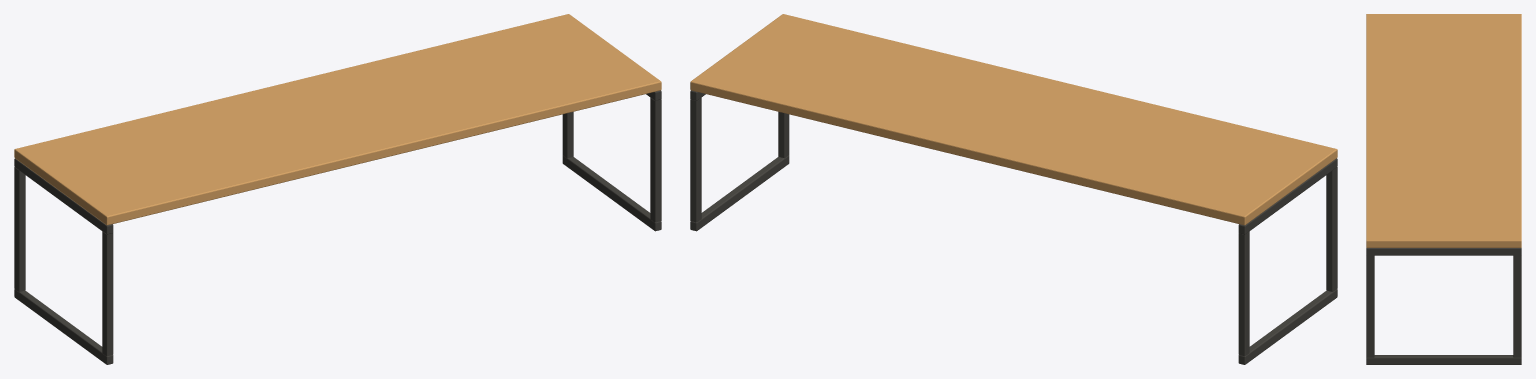
The model's file is Mesa.fbx.
3 views of the same model, side by side, from view 1: azimuth 30°, elevation 25°; view 2: azimuth 150°, elevation 25°; view 3: azimuth 270°, elevation 25° (orthographic). The views are drawn at different scales.
Parts seen in each view (by area): view 1: Mesa_Convidados; view 2: Mesa_Convidados; view 3: Mesa_Convidados.
Boxes of the visible parts, <box> form: Mesa_Convidados: <box>14,14,661,364</box>; Mesa_Convidados: <box>690,14,1337,364</box>; Mesa_Convidados: <box>1366,14,1521,364</box>.
Size of the model in its own units: 431 by 110 by 125.
